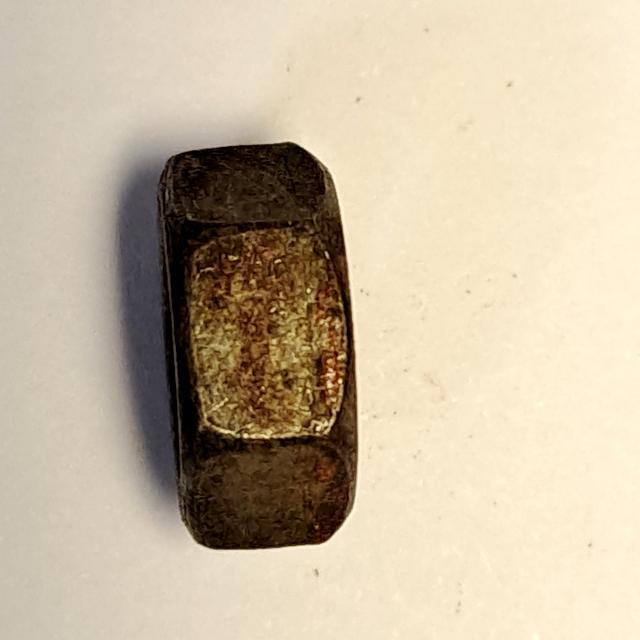Side_Rust: (147, 130, 376, 565)
